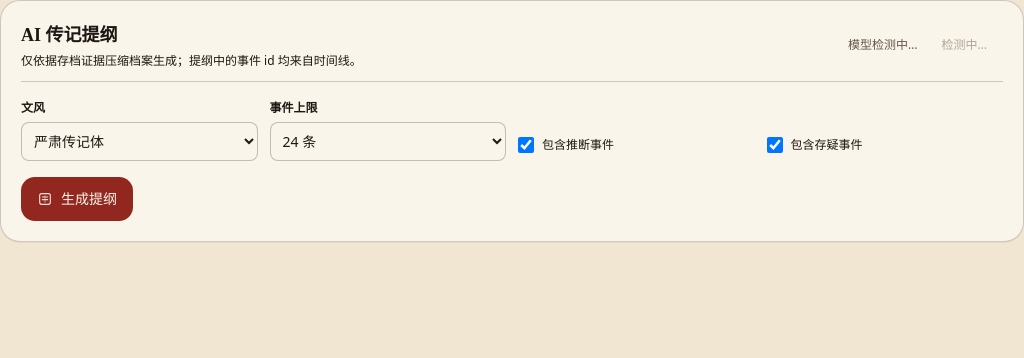
Test: OutlinePanel › 模型引用非本人物事件 → 拒绝展示（invalid_event_reference）
Click the button "生成提纲" at (77, 199), box [21,177,133,221]
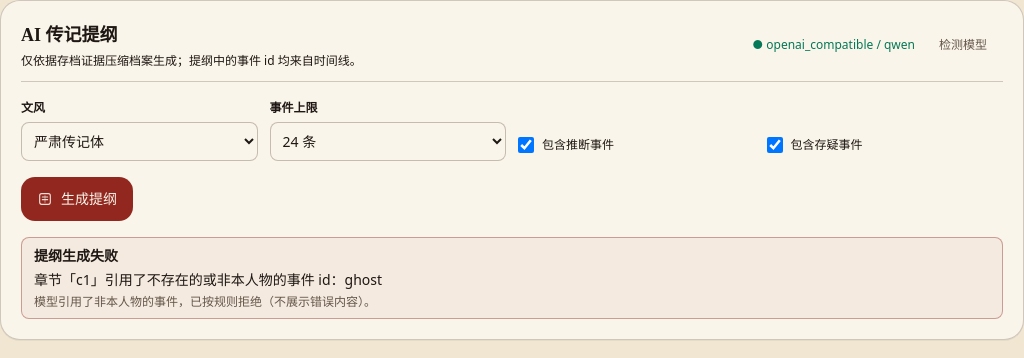
Check: the text "提纲生成失败" is shown, box [34,246,118,265]
Check: the text "章节「c1」引用了不存在的或非本人物的事件 id：ghost" is shown, box [34,270,382,289]
